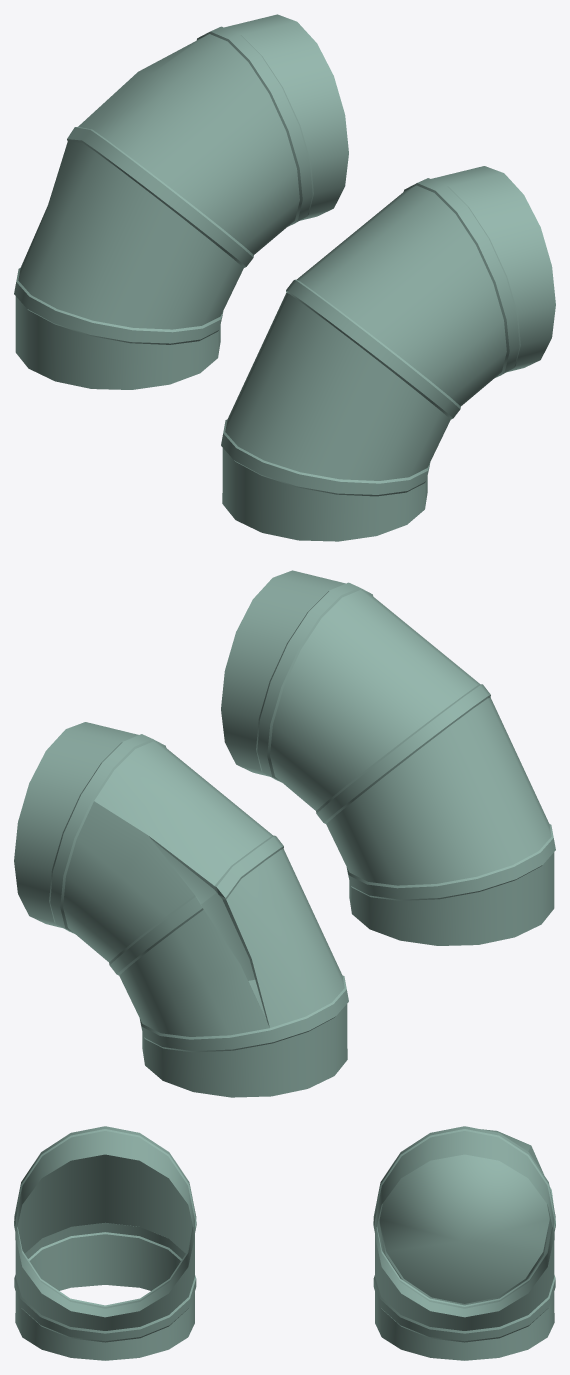
The model's file is PipeComplexLarge_B_12.fbx.
3 renders of one model, top to bottom at view 1: azimuth 30°, elevation 25°; view 2: azimuth 150°, elevation 25°; view 3: azimuth 270°, elevation 25°, orthographic. The views are drawn at different scales.
Parts seen in each view (by area): view 1: PipeComplexLarge_B_12.001; view 2: PipeComplexLarge_B_12.001; view 3: PipeComplexLarge_B_12.001.
Part boxes in pixels (x1,y1,x2,y2): PipeComplexLarge_B_12.001: (14, 14, 555, 541); PipeComplexLarge_B_12.001: (14, 570, 555, 1097); PipeComplexLarge_B_12.001: (14, 1126, 555, 1360).
Bounding box in the file's own units: 0.3016 × 0.3016 × 0.6032.
